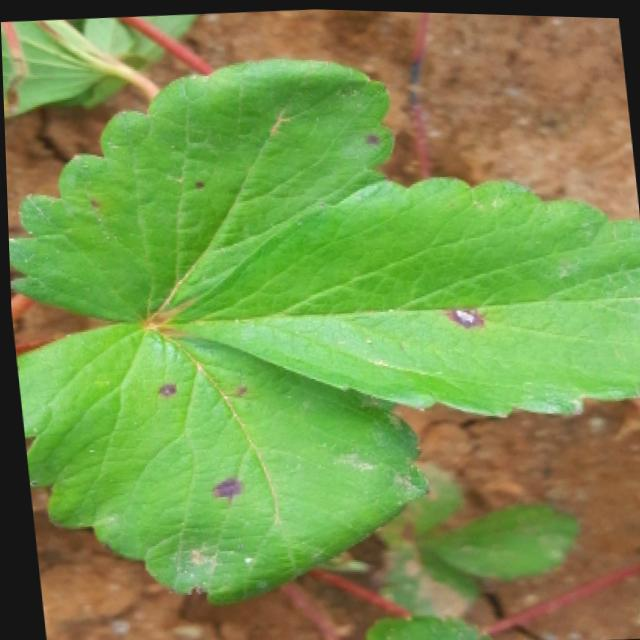Leaf Spot: (12, 320, 429, 607), (161, 176, 640, 416), (7, 54, 394, 322), (368, 461, 458, 547)
